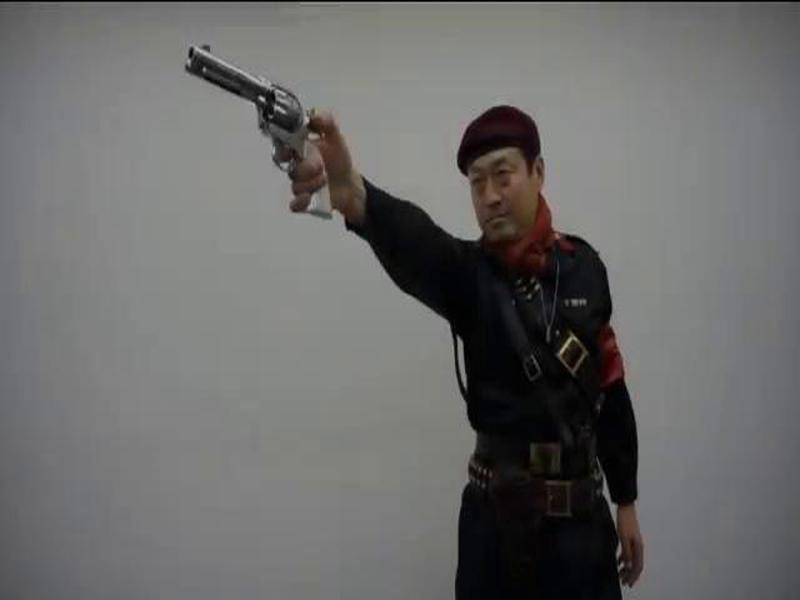Revolver: (172, 34, 356, 234)
